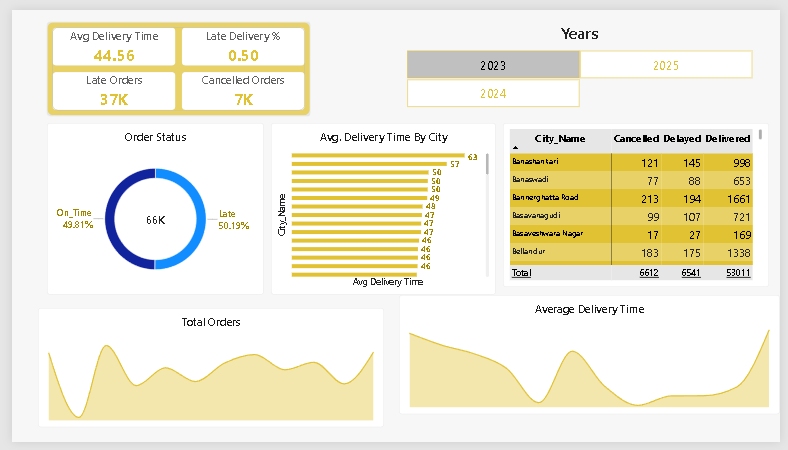

The dashboard page shown, as its layout file describes it:
{"tool":"powerbi","page":{"name":"Delivery and Operations","canvas":[1920,1080],"ordinal":3},"visuals":[{"type":"cardVisual","fields":{"Data":["Orders.Avg Delivery Time","Orders.Late Delivery %","Orders.Late Orders","Orders.Cancelled Orders"]},"box":[86.3,29.6,658.1,234.1],"z":0},{"type":"lineChart","title":"Average Delivery Time","fields":{"Category":["DateTable.Date.Variation.Date Hierarchy.Year","DateTable.Date.Variation.Date Hierarchy.Month"],"Y":["Orders.Avg Delivery Time"]},"box":[968,712,952.2,297.6],"z":1000},{"type":"lineChart","title":"Total Orders","fields":{"Category":["DateTable.Date.Variation.Date Hierarchy.Year","DateTable.Date.Variation.Date Hierarchy.Month"],"Y":["Orders.Total Orders"]},"box":[64.1,744.3,865.1,298.2],"z":2000},{"type":"barChart","title":"Avg. Delivery Time By City","fields":{"Category":["Customers.City_Name"],"Y":["Orders.Avg Delivery Time"]},"box":[648.2,283.4,562,428.9],"z":3000},{"type":"donutChart","title":"Order Status","fields":{"Category":["Orders.Delivery_Status"],"Y":["Orders.Total Orders"]},"box":[86.3,283.4,542.2,428.9],"z":4000},{"type":"pivotTable","title":"Avg. Delivery Time By City","fields":{"Columns":["Orders.OrderStatus"],"Rows":["Customers.City_Name"],"Values":["Orders.Total Orders"]},"box":[1227.5,282.5,665,410],"z":5000},{"type":"slicer","title":"Years","fields":{"Values":["DateTable.Date.Variation.Date Hierarchy.Year"]},"box":[968.6,29.6,902.1,214.4],"z":6000}]}

Visuals, with their boxes in screenshot pixels (x1, y1, x2, y2), scaled from the page's 1920x1080 canvas onto the 788x450 screenshot:
cardVisual - Orders.Avg Delivery Time x Orders.Late Delivery %: left=35, top=12, right=306, bottom=110
"Average Delivery Time" lineChart: left=397, top=297, right=787, bottom=421
"Total Orders" lineChart: left=26, top=310, right=381, bottom=434
"Avg. Delivery Time By City" barChart: left=266, top=118, right=497, bottom=297
"Order Status" donutChart: left=35, top=118, right=258, bottom=297
"Avg. Delivery Time By City" pivotTable: left=504, top=118, right=777, bottom=289
"Years" slicer: left=398, top=12, right=768, bottom=102
